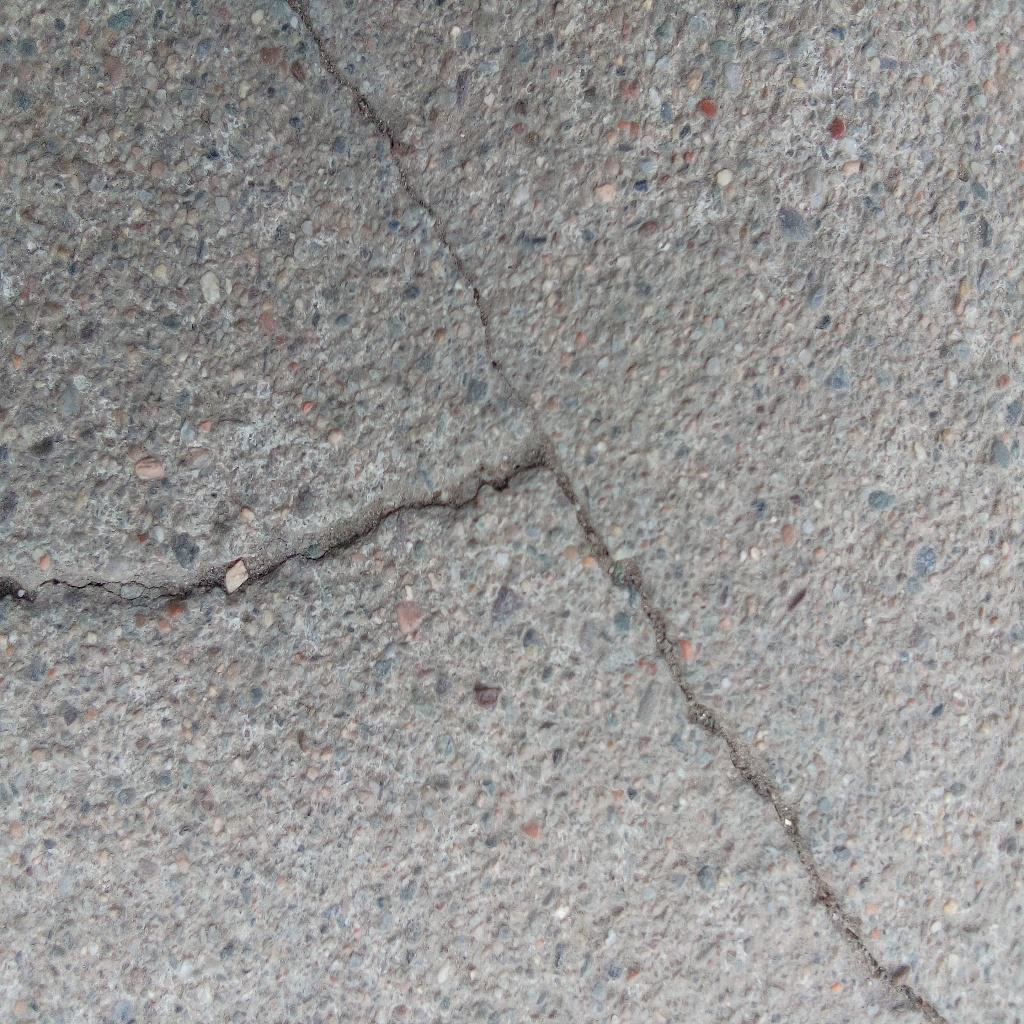Crack: (545, 453, 949, 1024), (289, 1, 546, 452), (1, 452, 545, 605)
